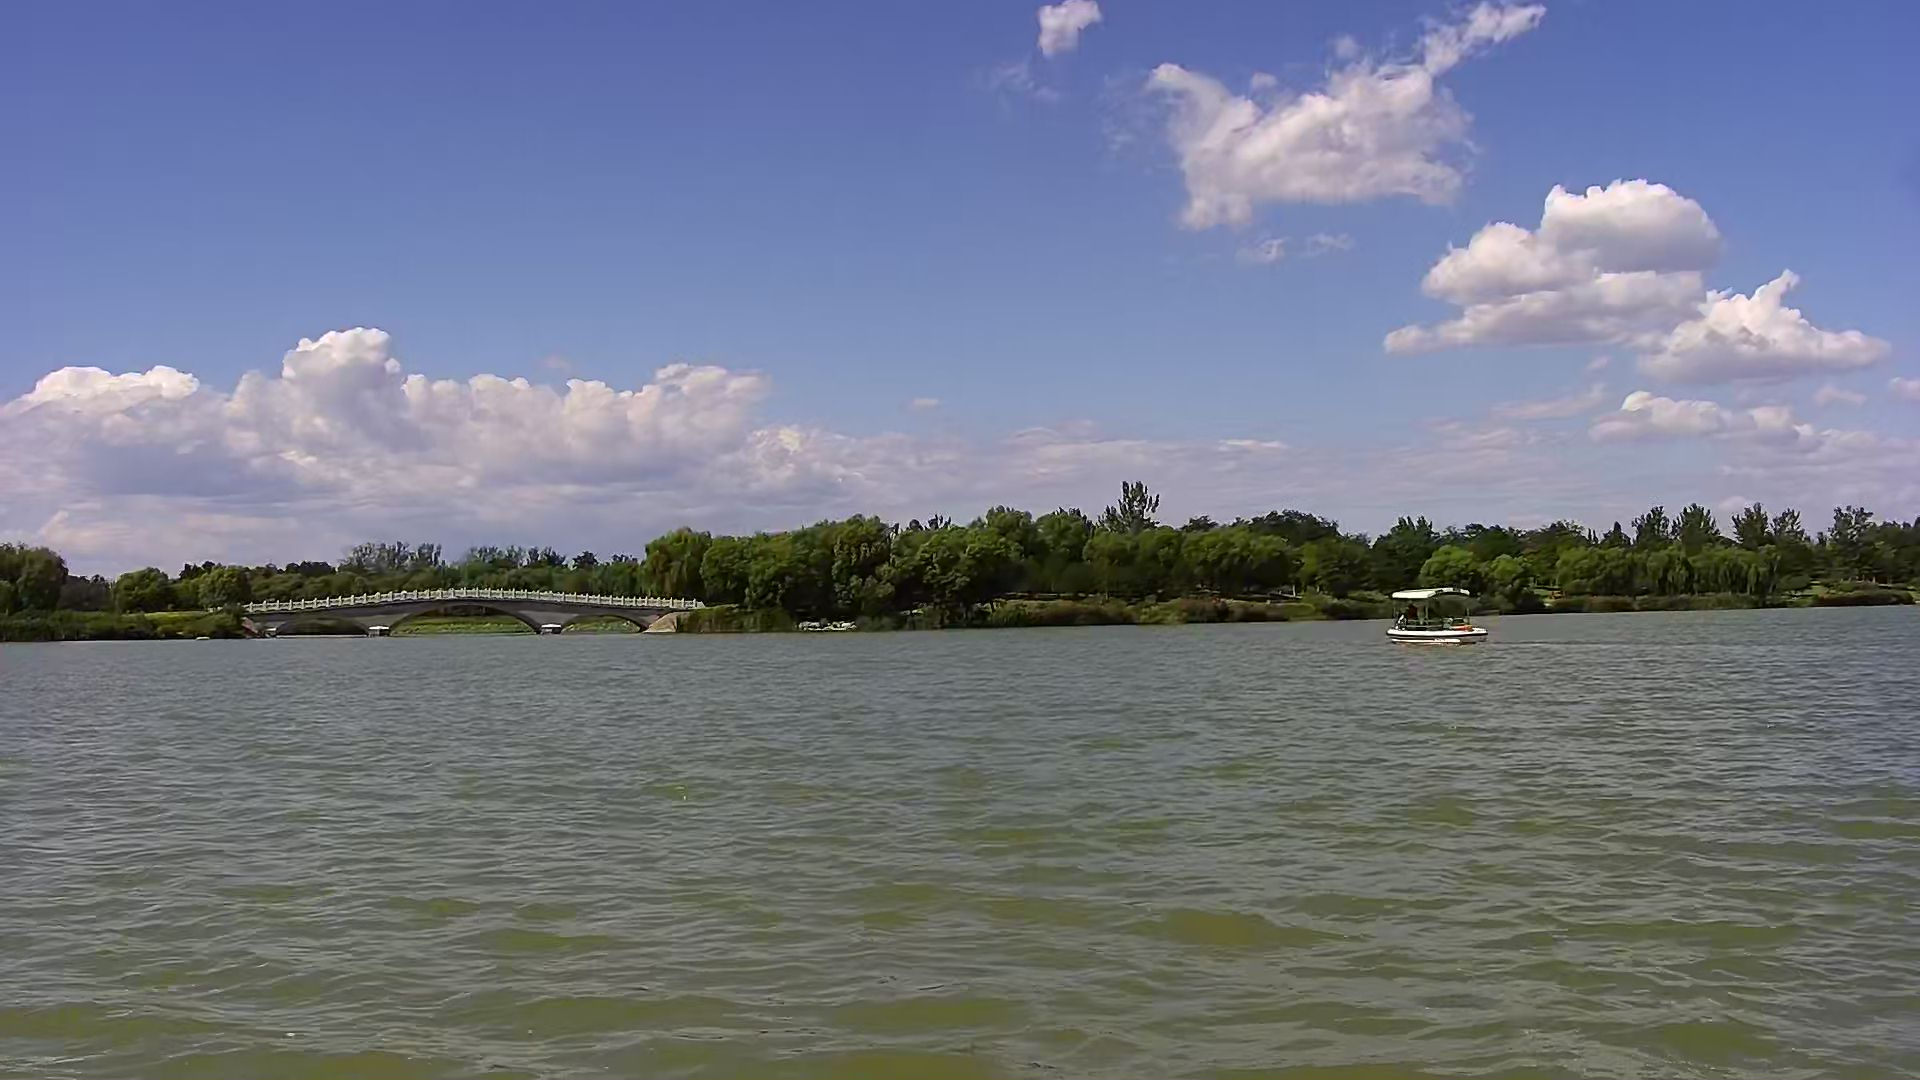boat: (1385, 583, 1482, 657)
bridge: (252, 589, 674, 634)
